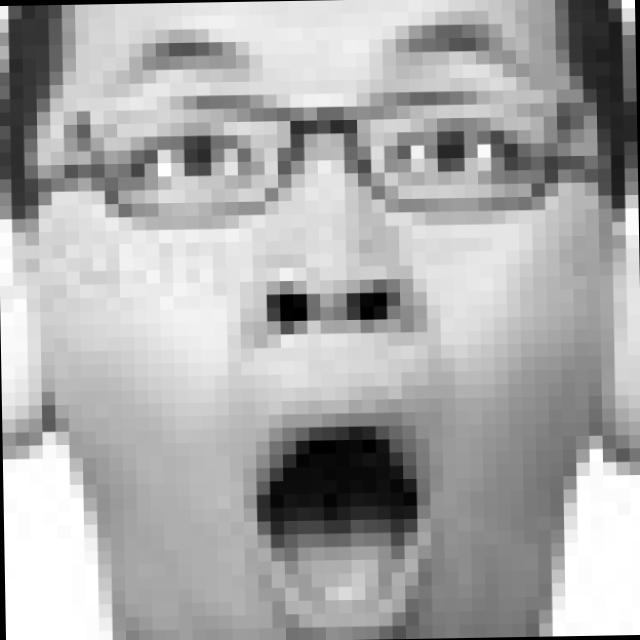surprise: (112, 21, 557, 640)
